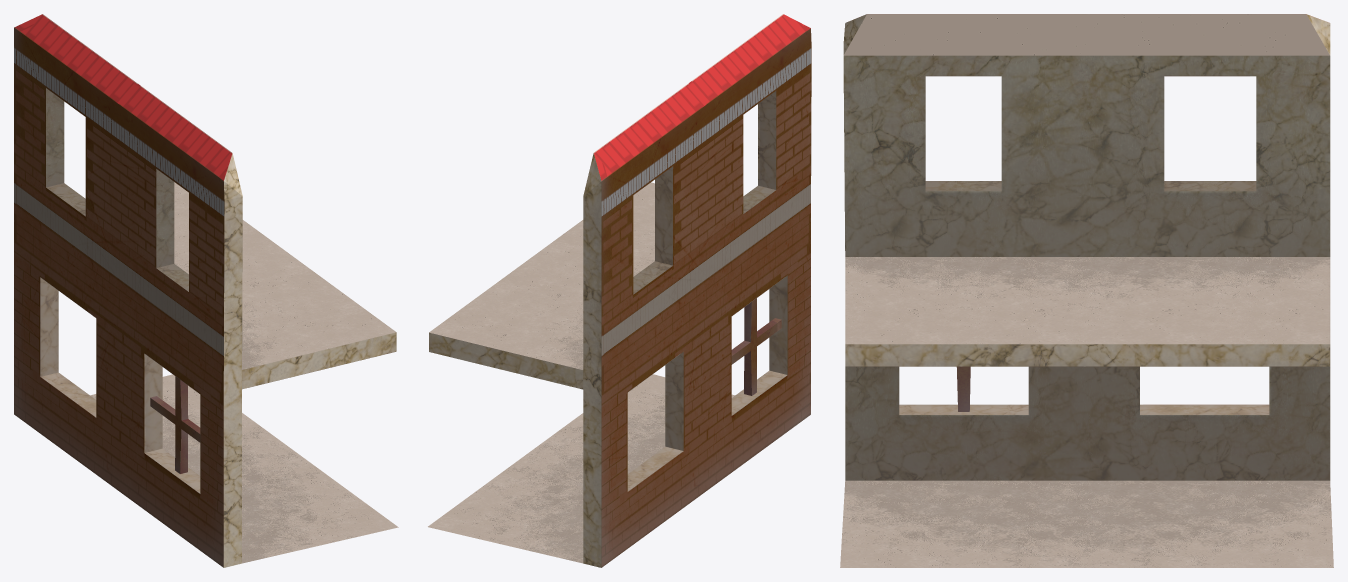
The model's file is Wall1R.fbx.
The picture shows the model from 3 angles, left to right: view 1: azimuth 30°, elevation 25°; view 2: azimuth 150°, elevation 25°; view 3: azimuth 270°, elevation 25°; orthographic projection. The views are drawn at different scales.
Visible parts, largest first — view 1: Cube.015; view 2: Cube.015; view 3: Cube.015.
Part boxes in pixels (x1,y1,x2,y2): Cube.015: (14,14,398,567); Cube.015: (428,14,811,567); Cube.015: (840,14,1333,567).
Size of the model in its own units: 187 by 417 by 400.
